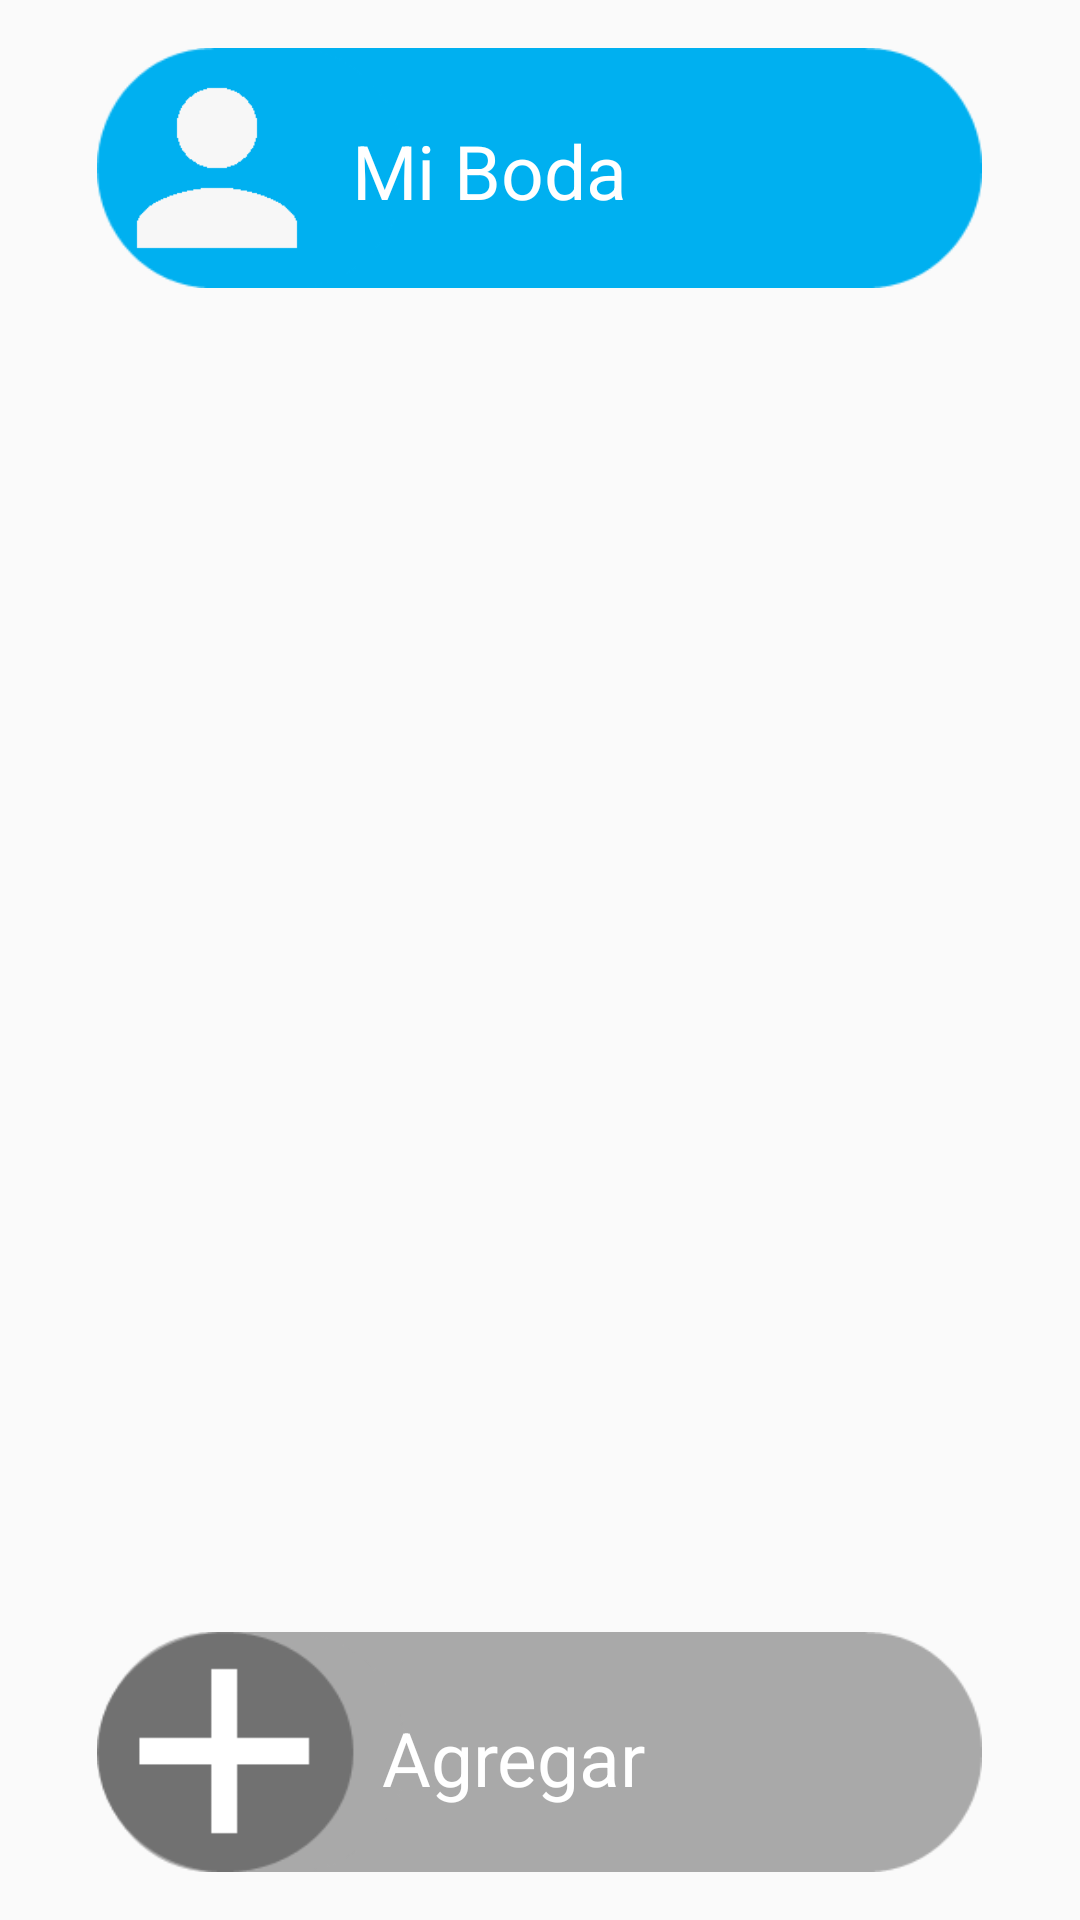

Where icons sit on this 1080px×1920px app screen, as region(x1, y1, x2, y2):
usuario: region(97, 48, 337, 288)
